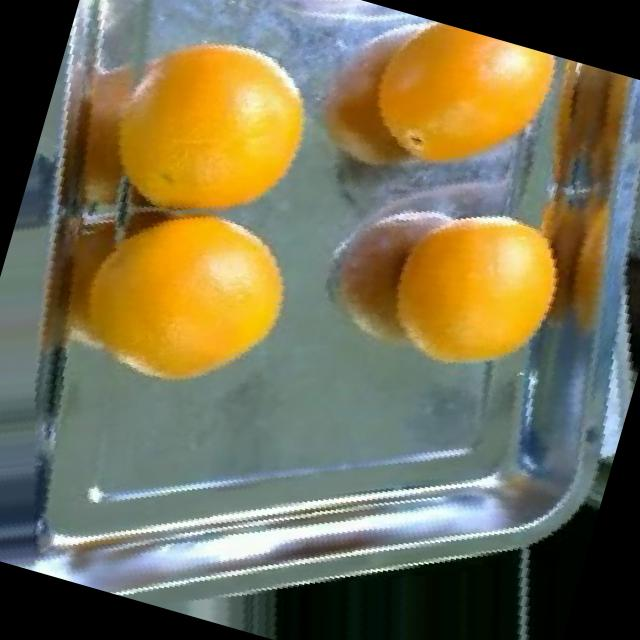Fruit: (340, 151, 602, 415)
